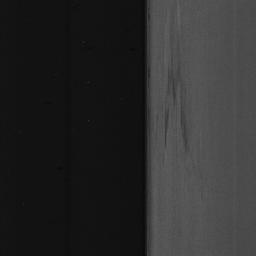Silk spot: (167, 0, 190, 154), (162, 104, 169, 148), (172, 227, 182, 236)
